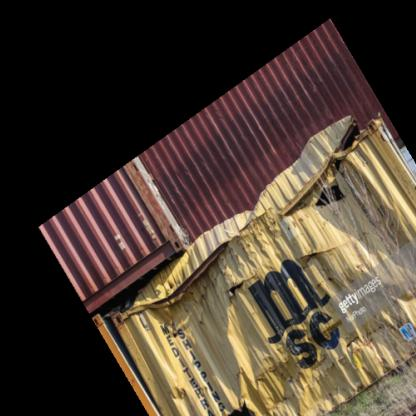Damage: (256, 310, 390, 396), (145, 236, 242, 312), (302, 115, 386, 196), (296, 234, 349, 268), (220, 362, 252, 416)
